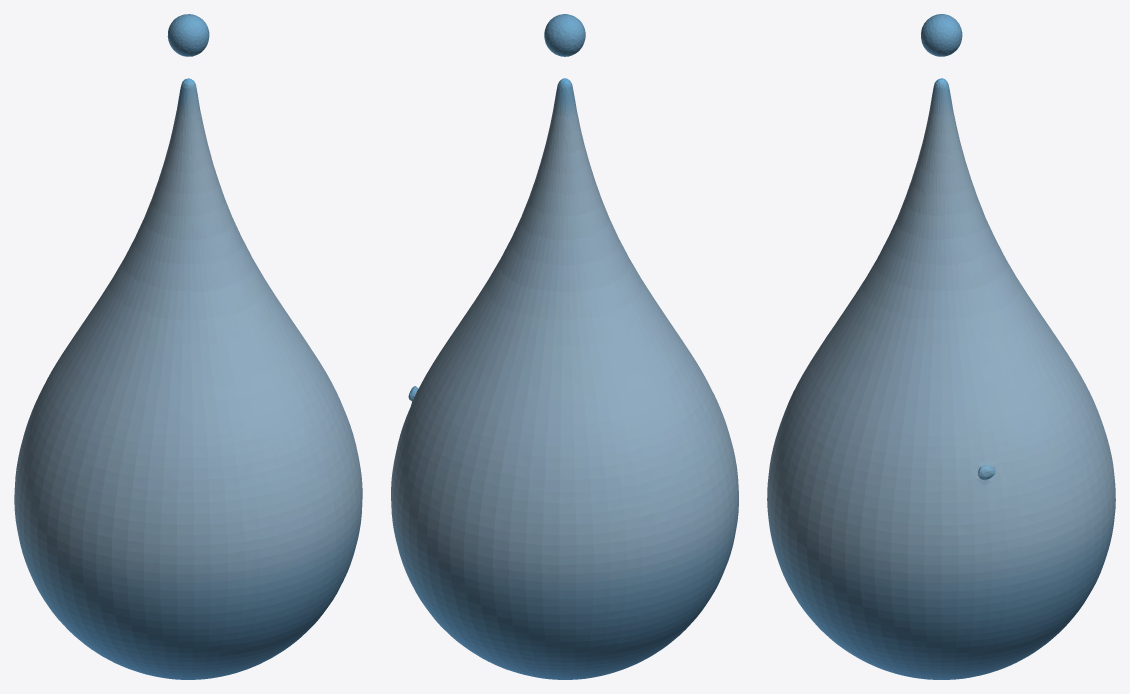
The model's file is Droplet.fbx.
3 views of the same model, side by side, from view 1: azimuth 30°, elevation 25°; view 2: azimuth 150°, elevation 25°; view 3: azimuth 270°, elevation 25° (orthographic).
Parts seen in each view (by area): view 1: tripo_node_89f9eb31-f428-45ca-bfc3-11f1d84917de; view 2: tripo_node_89f9eb31-f428-45ca-bfc3-11f1d84917de; view 3: tripo_node_89f9eb31-f428-45ca-bfc3-11f1d84917de.
Boxes of the visible parts, box(x1,y1,x2,y2) form: tripo_node_89f9eb31-f428-45ca-bfc3-11f1d84917de: box(14, 14, 362, 679); tripo_node_89f9eb31-f428-45ca-bfc3-11f1d84917de: box(391, 14, 738, 679); tripo_node_89f9eb31-f428-45ca-bfc3-11f1d84917de: box(767, 14, 1115, 679).
Bounding box in the file's own units: 48.68 × 100 × 48.7.
1 material, 1 textured.
